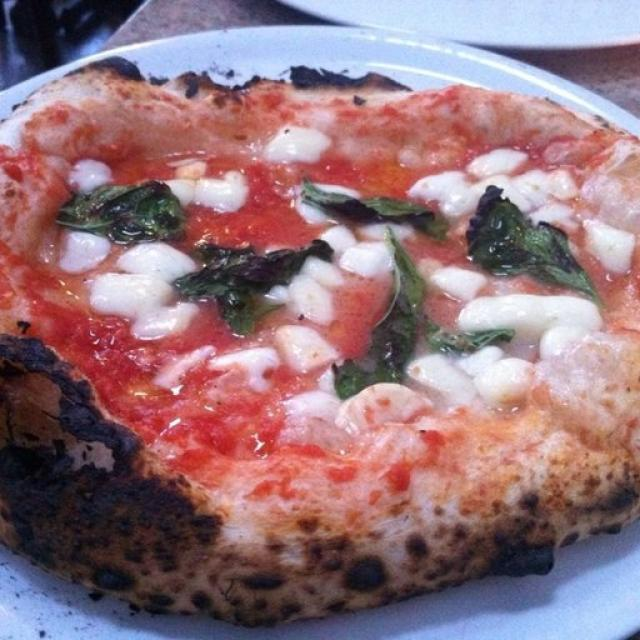Basil: (476, 189, 590, 295), (337, 239, 409, 387), (305, 184, 444, 238), (192, 245, 274, 335), (61, 184, 186, 231)
Cheese: (66, 235, 192, 335), (413, 350, 527, 408), (463, 295, 602, 333), (474, 150, 568, 202), (341, 386, 435, 434), (276, 389, 340, 445), (171, 171, 251, 210), (274, 323, 339, 369), (291, 258, 333, 324), (334, 239, 390, 288), (579, 225, 635, 272), (267, 126, 326, 166), (428, 263, 482, 299), (420, 167, 468, 204), (71, 157, 110, 189)
Pizza: (0, 59, 640, 630)
